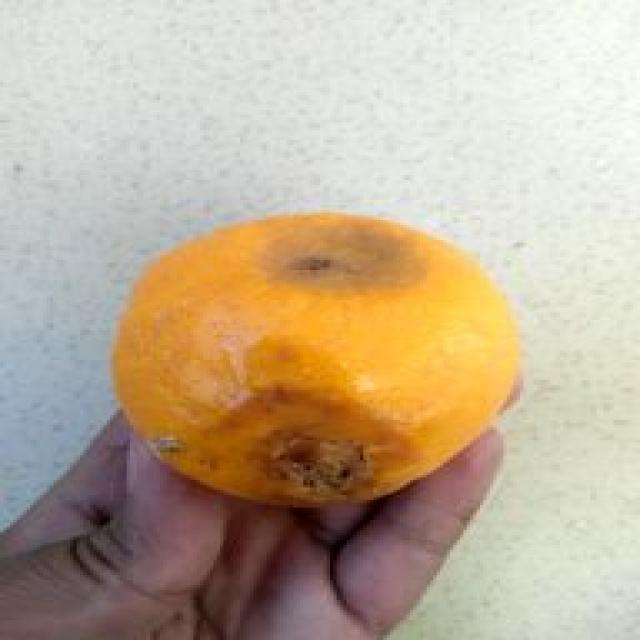Bad_Orange: (113, 212, 520, 504)
